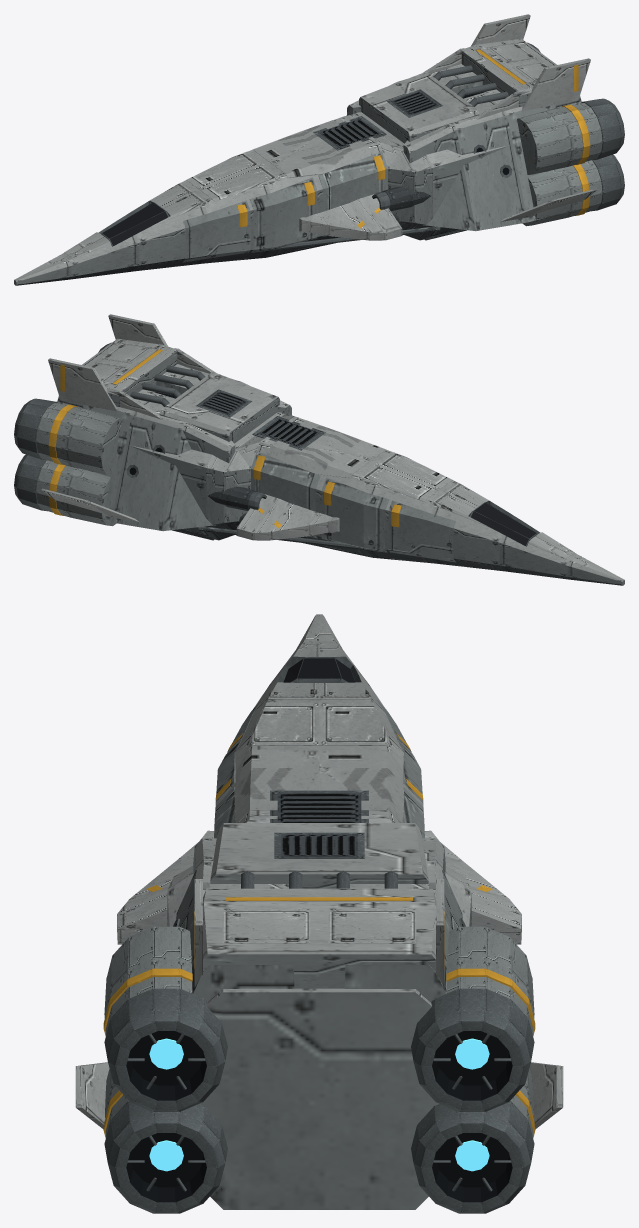
Rendered from speedster.glb.
3 views of the same model, one above another, from view 1: azimuth 30°, elevation 25°; view 2: azimuth 150°, elevation 25°; view 3: azimuth 270°, elevation 25° (orthographic). The views are drawn at different scales.
Parts seen in each view (by area): view 1: Speedster_Hull, Speedster_Glass; view 2: Speedster_Hull, Speedster_Glass; view 3: Speedster_Hull, Speedster_Glass.
Boxes of the visible parts, left/top/right/bottom form: Speedster_Hull: left=14, top=14, right=624, bottom=285; Speedster_Glass: left=102, top=203, right=167, bottom=245; Speedster_Hull: left=14, top=314, right=624, bottom=585; Speedster_Glass: left=471, top=503, right=536, bottom=545; Speedster_Hull: left=75, top=614, right=563, bottom=1213; Speedster_Glass: left=283, top=658, right=355, bottom=682.
Size of the model in its own units: 2 by 0.503 by 0.7539.
Materials: 2 (1 with a texture image).
